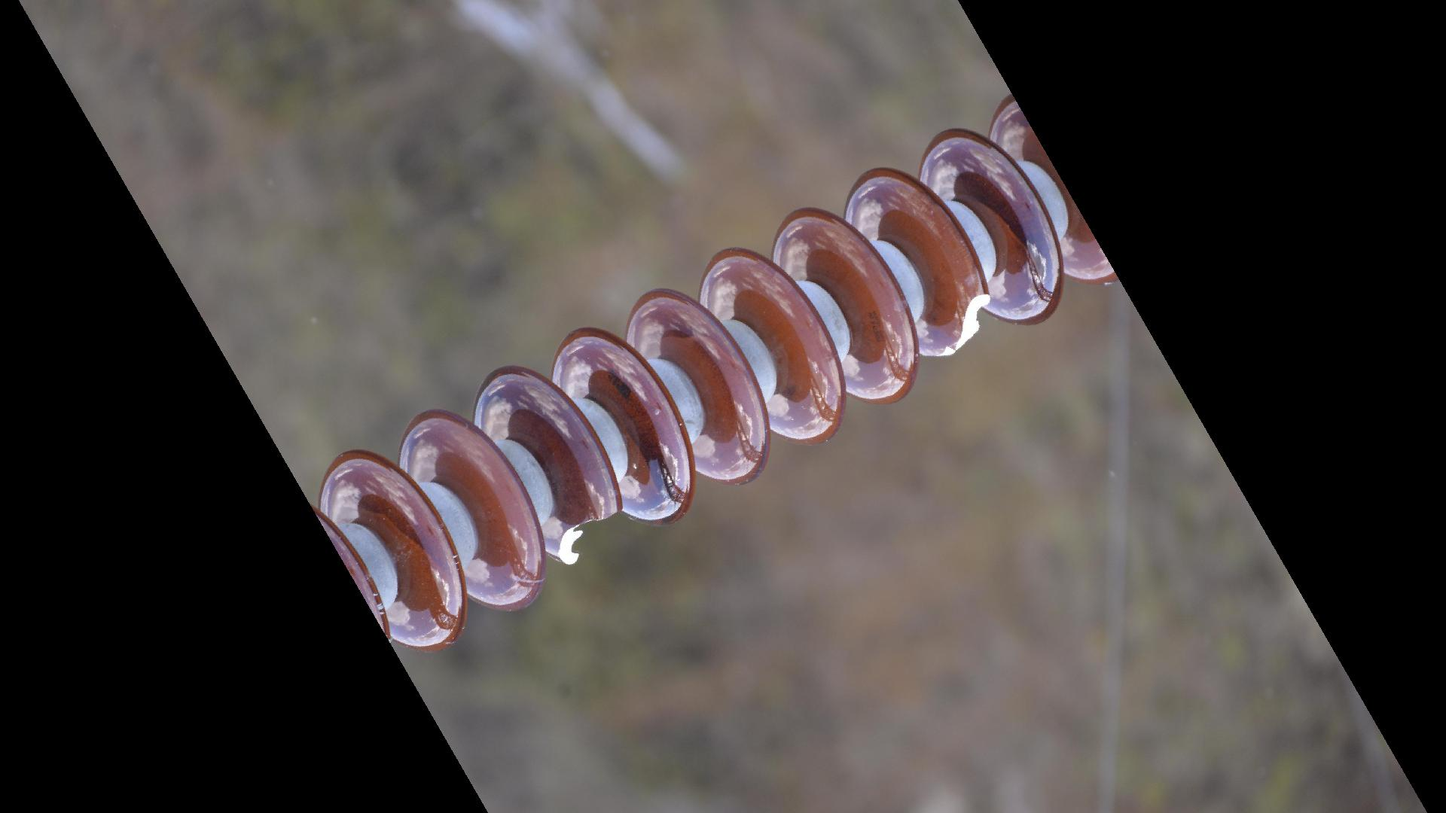insulator: (312, 88, 1118, 656)
insulator_breakage: (543, 498, 627, 573), (925, 282, 998, 362)
